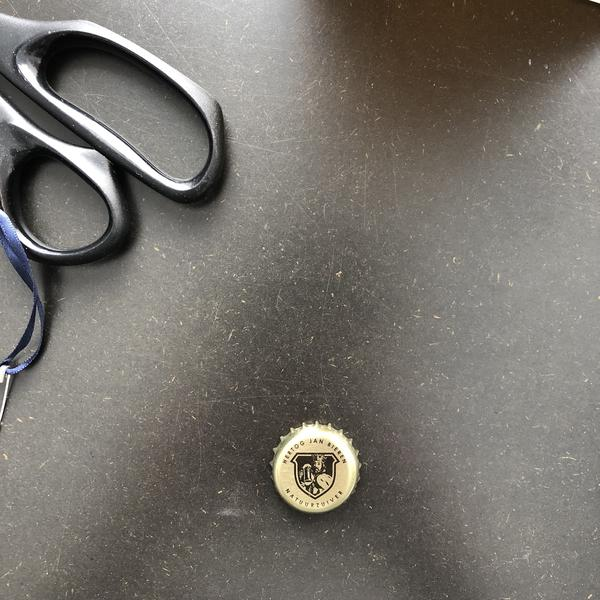hertogjan: (269, 424, 364, 515)
